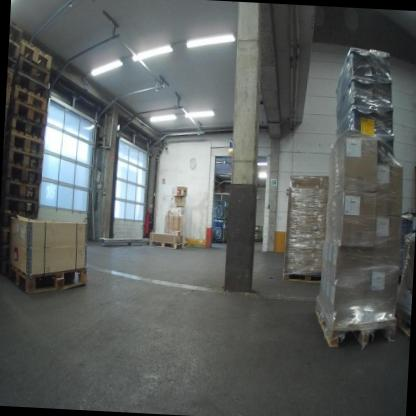pallet: (308, 294, 398, 357), (7, 253, 92, 302), (0, 197, 40, 229), (10, 72, 51, 101), (19, 40, 54, 73), (15, 56, 51, 86), (4, 129, 47, 154), (5, 100, 48, 124), (2, 147, 44, 170), (280, 267, 326, 287), (9, 85, 48, 108), (6, 115, 46, 137), (3, 162, 43, 183), (2, 179, 40, 198), (148, 238, 185, 250), (0, 249, 11, 274), (9, 21, 24, 39), (0, 228, 13, 247), (9, 39, 19, 63)
stillage: (211, 219, 229, 244), (211, 197, 228, 222), (253, 223, 264, 244)
